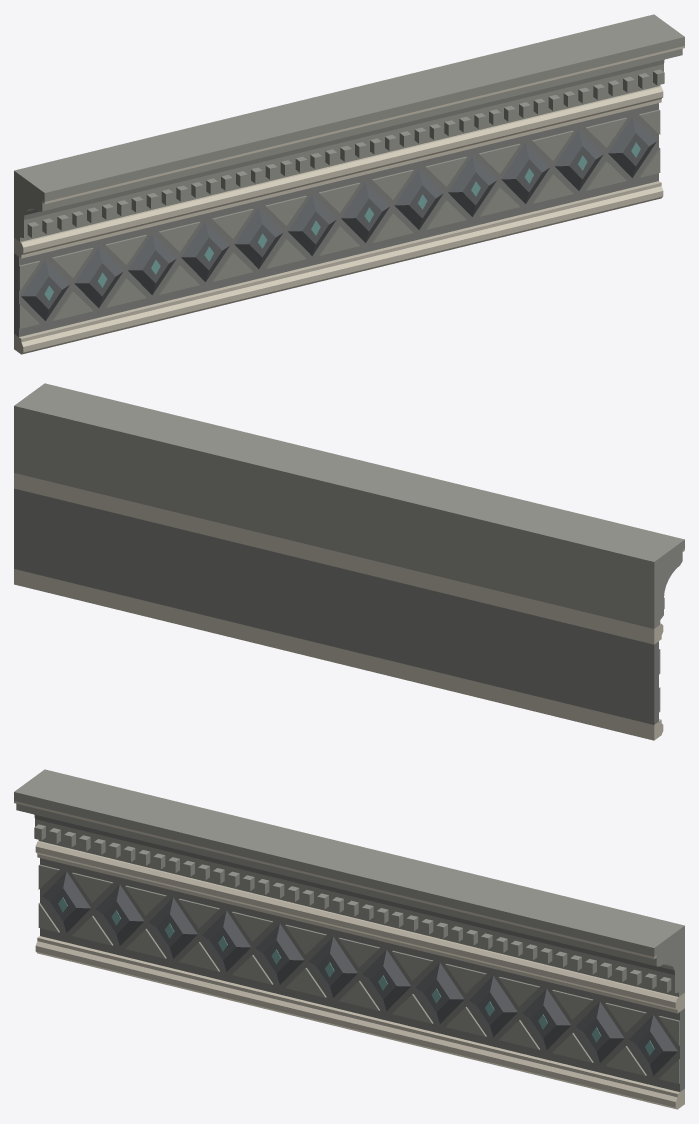
File: wall_frieze.glb
The picture shows the model from 3 angles, top to bottom: view 1: azimuth 30°, elevation 25°; view 2: azimuth 150°, elevation 25°; view 3: azimuth 330°, elevation 25°; orthographic projection.
Visible parts, largest first — view 1: plaster_theater__wall_frieze__solid, paper__wall_frieze__solid, vault_theater__wall_frieze__solid, carpet_theater__wall_frieze__solid, paint_teal__wall_frieze__ns; view 2: plaster_theater__wall_frieze__solid, vault_theater__wall_frieze__solid, paper__wall_frieze__solid; view 3: plaster_theater__wall_frieze__solid, paper__wall_frieze__solid, vault_theater__wall_frieze__solid, carpet_theater__wall_frieze__solid, paint_teal__wall_frieze__ns.
Part boxes in pixels (x1,y1,x2,y2): plaster_theater__wall_frieze__solid: (14,14,684,328); paper__wall_frieze__solid: (14,46,684,354); vault_theater__wall_frieze__solid: (14,103,658,336); carpet_theater__wall_frieze__solid: (21,116,656,320); paint_teal__wall_frieze__ns: (44,142,640,300); plaster_theater__wall_frieze__solid: (14,383,684,712); vault_theater__wall_frieze__solid: (14,488,658,724); paper__wall_frieze__solid: (14,473,684,740); plaster_theater__wall_frieze__solid: (14,769,684,1083); paper__wall_frieze__solid: (14,801,684,1109); vault_theater__wall_frieze__solid: (40,858,684,1091); carpet_theater__wall_frieze__solid: (42,871,677,1075); paint_teal__wall_frieze__ns: (58,897,654,1055).
Size of the model in its own units: 6 by 1.6 by 0.5.
